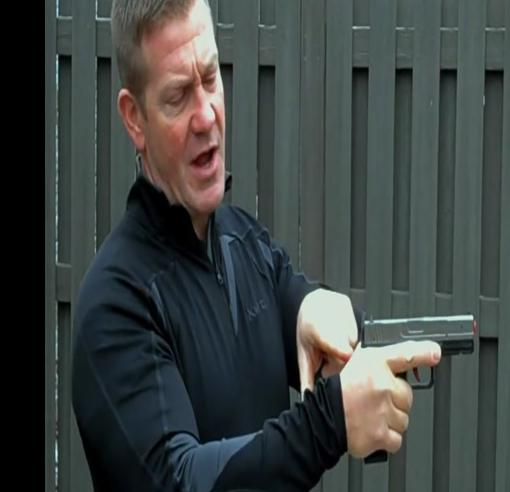pistol: (357, 307, 479, 461)
